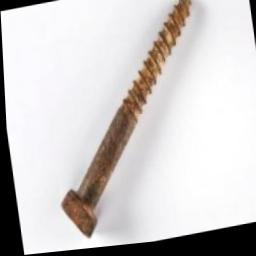Corroded-Bolt: (57, 0, 192, 240)
